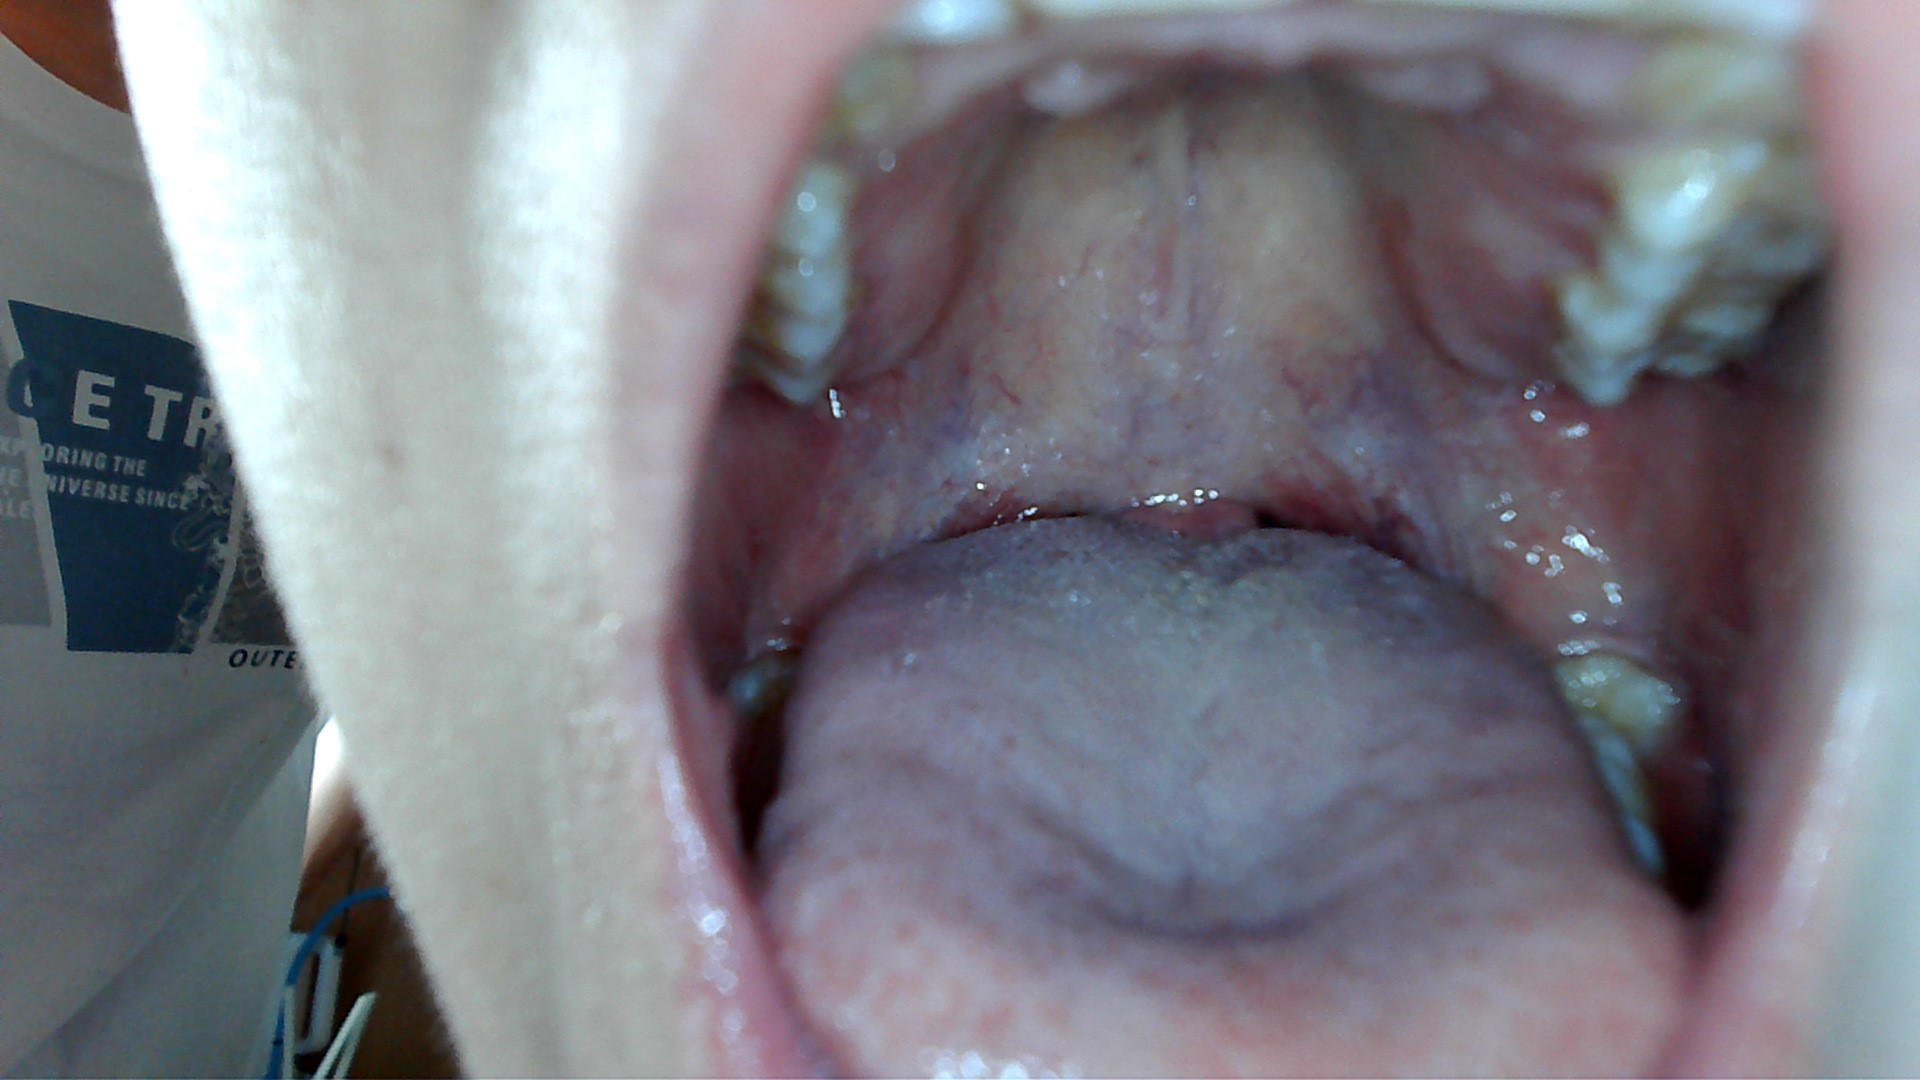throat: (1258, 468, 1437, 576)
